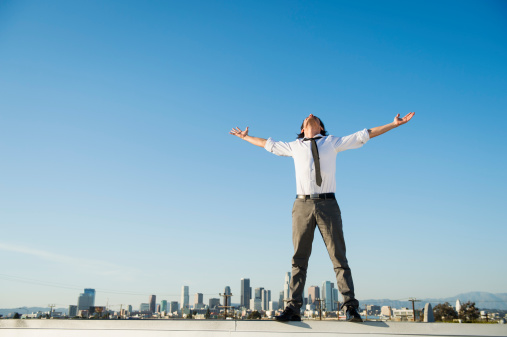em pe: (223, 95, 399, 304)
